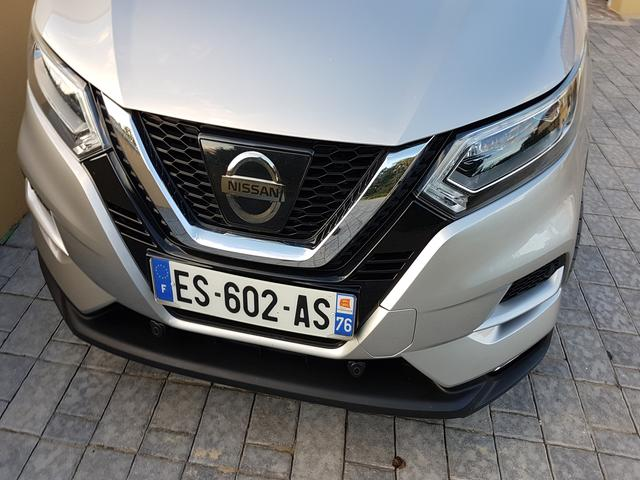Quashquai: (136, 232, 378, 365)
